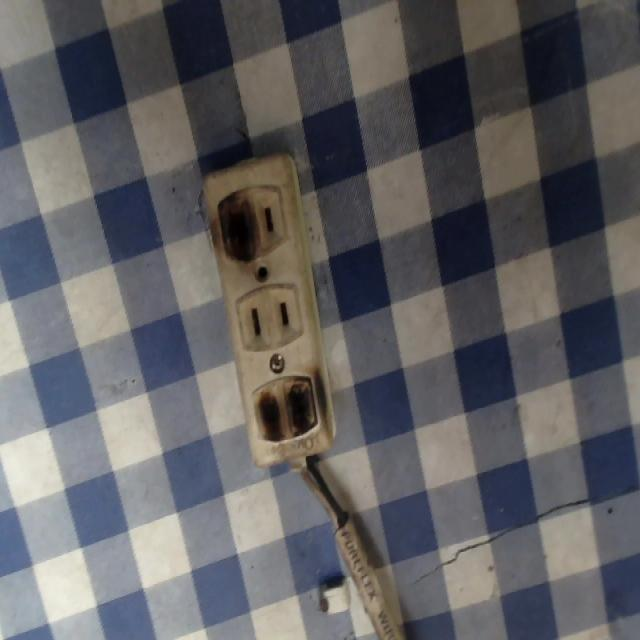-: (252, 371, 331, 453), (214, 179, 263, 265)
